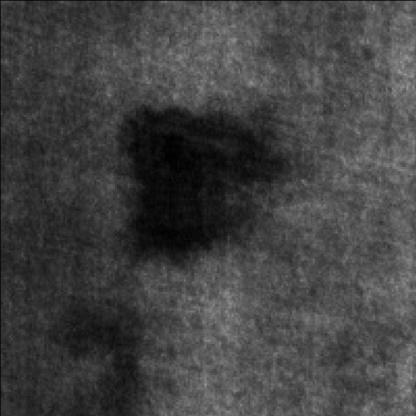patches: (112, 110, 285, 270)
